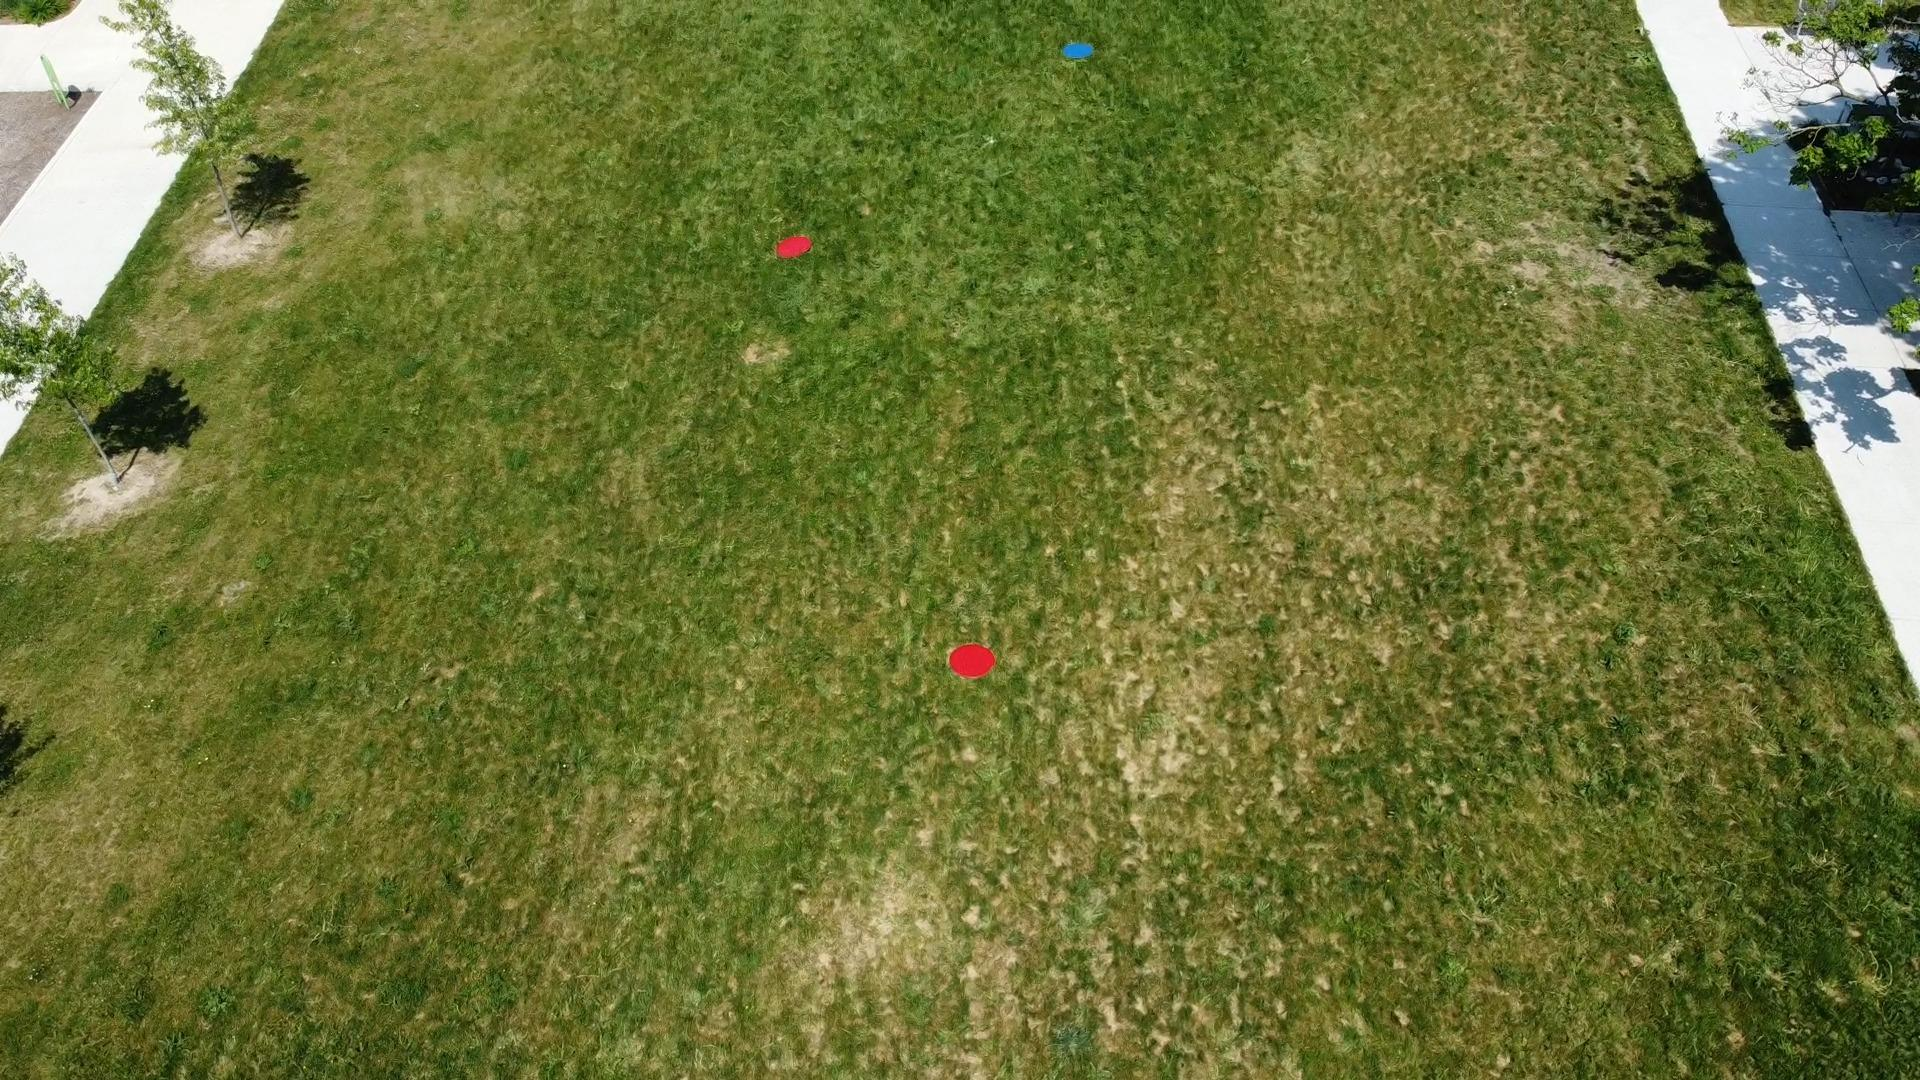Blue: (1058, 40, 1098, 65)
Red: (945, 641, 1001, 680), (773, 233, 818, 264)
